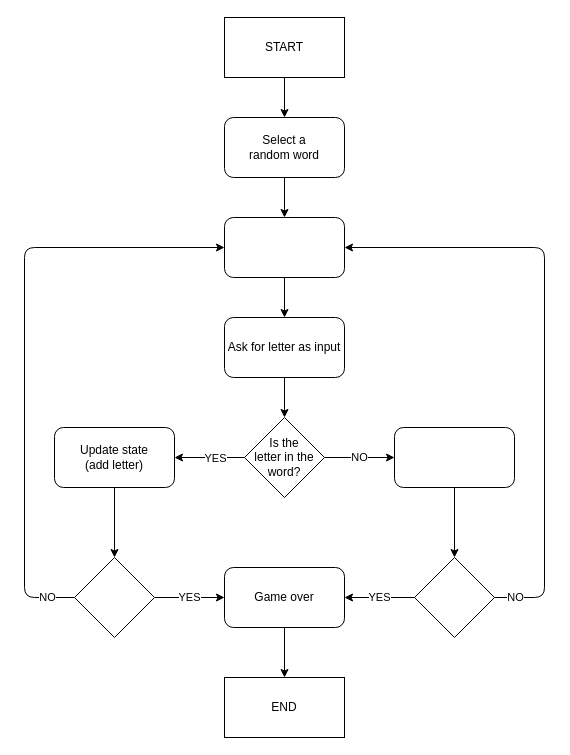
The diagram is 570 pixels wide and 755 high, and some of its shapes have lost their labels. The shapes that lost their labels are listed below. From the top down, each one's centre as x and y in pixels, then its label:
the point at 284,247: Draw state
the point at 454,457: Update state (lose a life)
the point at 114,597: Is the word complete?
the point at 454,597: Are the lives ended?
